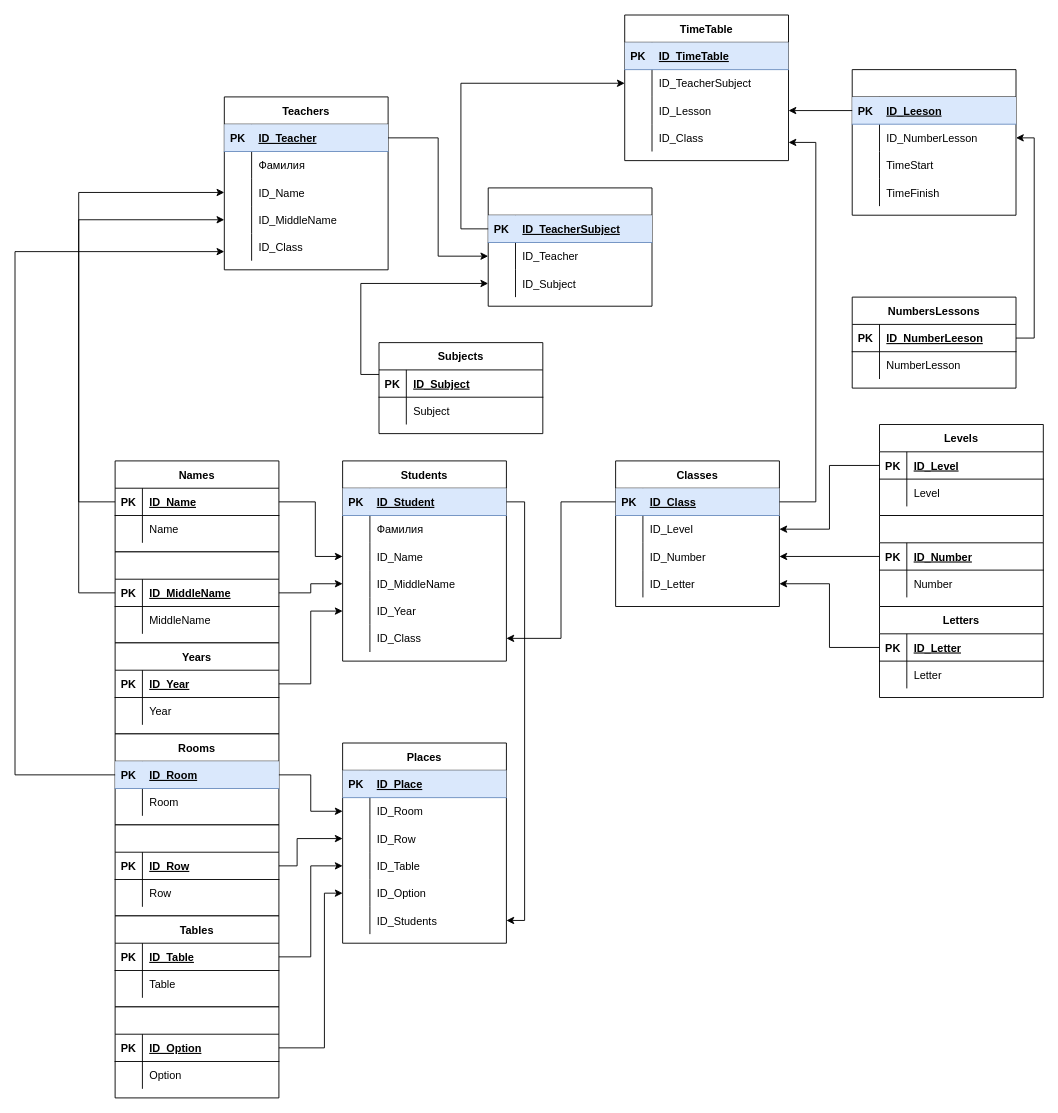
Image size: 1058x1113. Some labels were removed from this diagram. Here are the shapes that lost their labels. From the top down, the box of each, then its label:
(851, 69, 1016, 215): Lessons
(487, 187, 652, 306): TeachersSubjects
(879, 515, 1043, 607): Numbers
(114, 551, 279, 643): MiddleNames
(114, 824, 279, 916): Rows
(114, 1006, 279, 1098): Options
